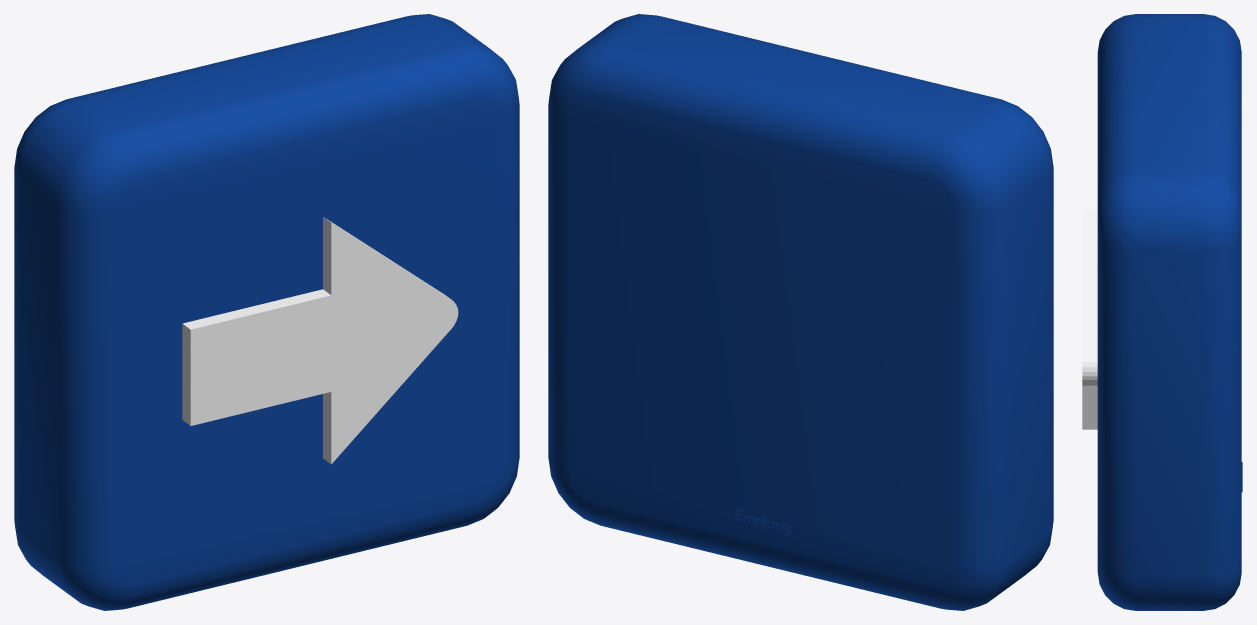
The model's file is right_arrow.glb.
The picture shows the model from 3 angles, left to right: view 1: azimuth 30°, elevation 25°; view 2: azimuth 150°, elevation 25°; view 3: azimuth 270°, elevation 25°; orthographic projection. The views are drawn at different scales.
Visible parts, largest first — view 1: Cube.6316; view 2: Cube.6316; view 3: Cube.6316.
Part boxes in pixels (box(x1,y1,x2,y2)): Cube.6316: box(14, 14, 519, 610); Cube.6316: box(548, 14, 1053, 610); Cube.6316: box(1082, 14, 1242, 610).
Size of the model in its own units: 2.2 by 2.2 by 0.7337.
Materials: 1 (1 with a texture image).
